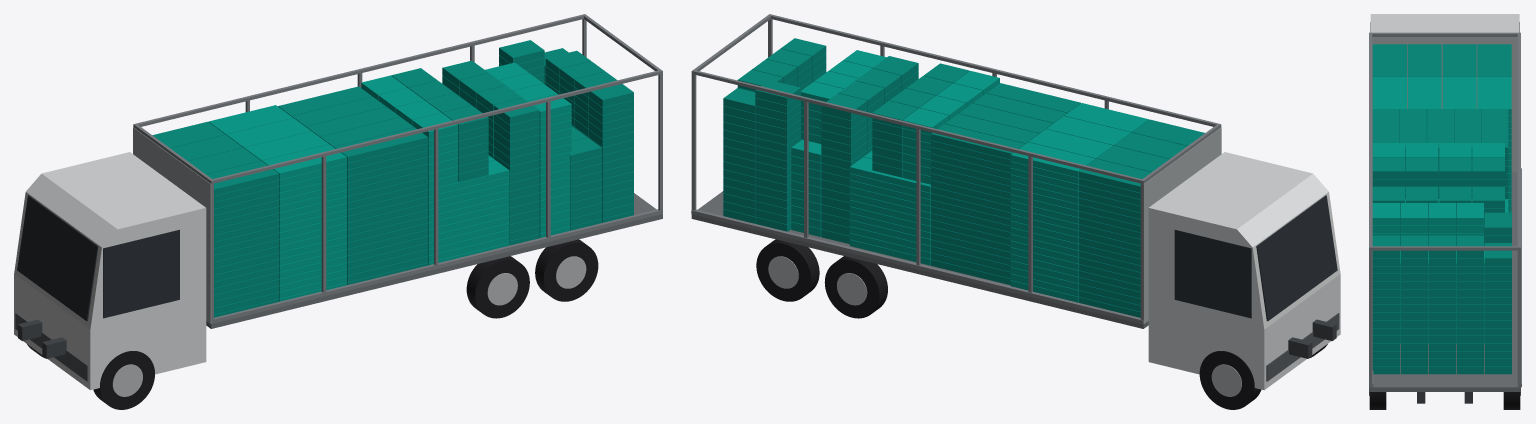
The model's file is truck-SP12.glb.
3 renders of one model, left to right at view 1: azimuth 30°, elevation 25°; view 2: azimuth 150°, elevation 25°; view 3: azimuth 270°, elevation 25°, orthographic. The views are drawn at different scales.
Parts seen in each view (by area): view 1: cabine, part23, janela, frente, piso, part15, part14, part16, part29, part33, part25, part292 (+53 smaller); view 2: cabine, part23, janela, piso, part17, frente, part16, part14, part35, part31, part27, part196 (+57 smaller); view 3: piso, cabine, frente, part196, part194, part193, part195, part113, part114, part115, part116, part295 (+119 smaller).
Boxes of the visible parts, x1,y1,x2,y2 form: cabine: [14, 152, 206, 390]; part23: [17, 195, 98, 321]; janela: [103, 229, 179, 318]; frente: [133, 127, 211, 323]; piso: [206, 193, 662, 328]; part15: [211, 209, 662, 323]; part14: [209, 70, 662, 183]; part16: [133, 14, 586, 127]; part29: [466, 256, 529, 318]; part33: [535, 239, 598, 301]; part25: [93, 351, 154, 409]; part292: [334, 127, 428, 162]; cabine: [1148, 152, 1340, 390]; part23: [1256, 195, 1337, 321]; janela: [1174, 229, 1251, 318]; piso: [691, 191, 1148, 328]; part17: [691, 209, 1143, 324]; frente: [1143, 127, 1221, 323]; part16: [691, 70, 1145, 183]; part14: [768, 14, 1221, 127]; part35: [756, 239, 819, 301]; part31: [824, 256, 887, 318]; part27: [1199, 351, 1261, 409]; part196: [1010, 142, 1095, 177]; piso: [1369, 172, 1520, 391]; cabine: [1370, 14, 1519, 32]; frente: [1372, 37, 1517, 171]; part196: [1477, 76, 1511, 114]; part194: [1407, 76, 1441, 114]; part193: [1372, 76, 1406, 114]; part195: [1442, 76, 1476, 114]; part113: [1372, 44, 1406, 76]; part114: [1407, 44, 1441, 76]; part115: [1442, 44, 1476, 76]; part116: [1477, 44, 1511, 76]; part295: [1454, 109, 1481, 153].
Bounding box in the file's own units: 11.24 × 3.78 × 2.58.
